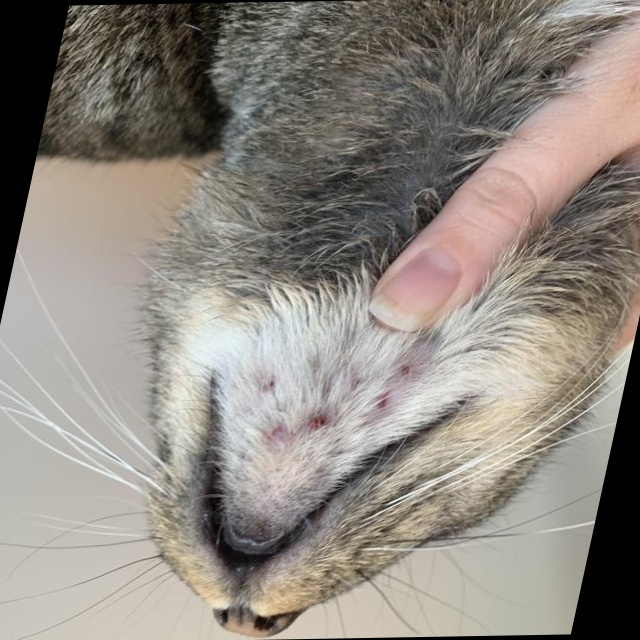acne: (234, 336, 416, 448)
